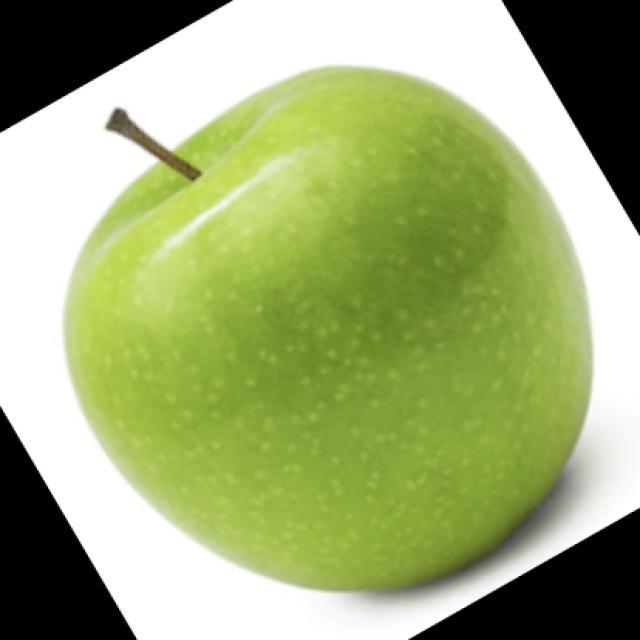Fresh Apple: (90, 60, 595, 590)
